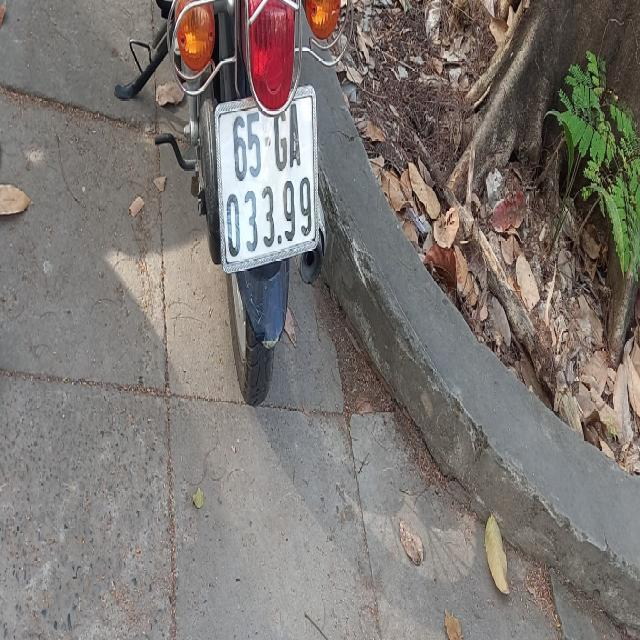0: (227, 193, 240, 260)
3: (262, 184, 276, 248), (245, 188, 258, 254)
5: (247, 111, 262, 178)
6: (233, 115, 247, 185)
9: (283, 180, 295, 247), (300, 176, 312, 240)
A: (289, 102, 301, 168)
B: (212, 84, 320, 276)
G: (274, 109, 288, 172)
